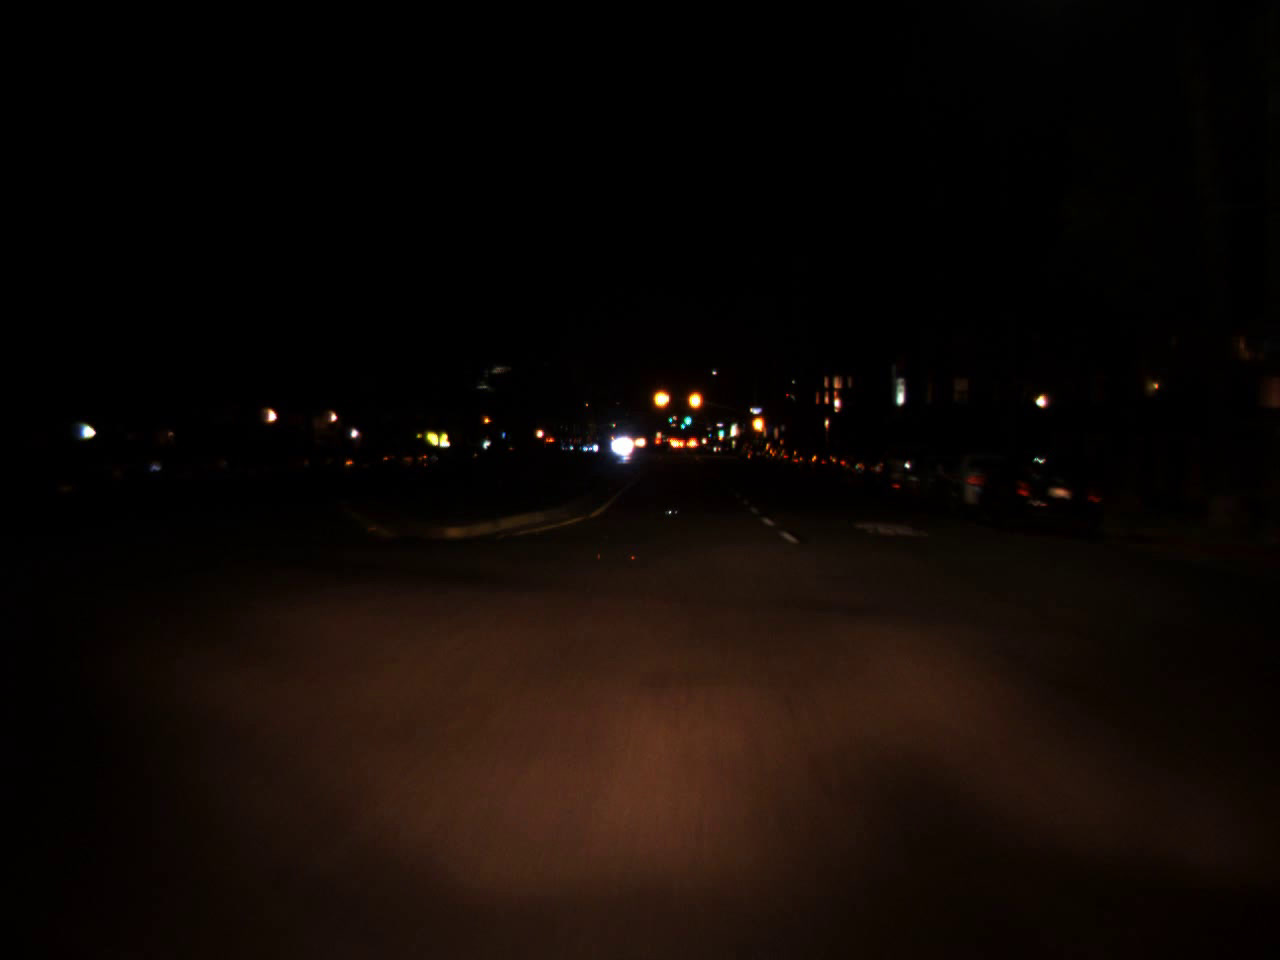go: (678, 415, 687, 430), (683, 408, 690, 426), (717, 423, 724, 438)
warning: (650, 380, 671, 417), (686, 381, 703, 418), (750, 407, 765, 439), (480, 409, 492, 429)
